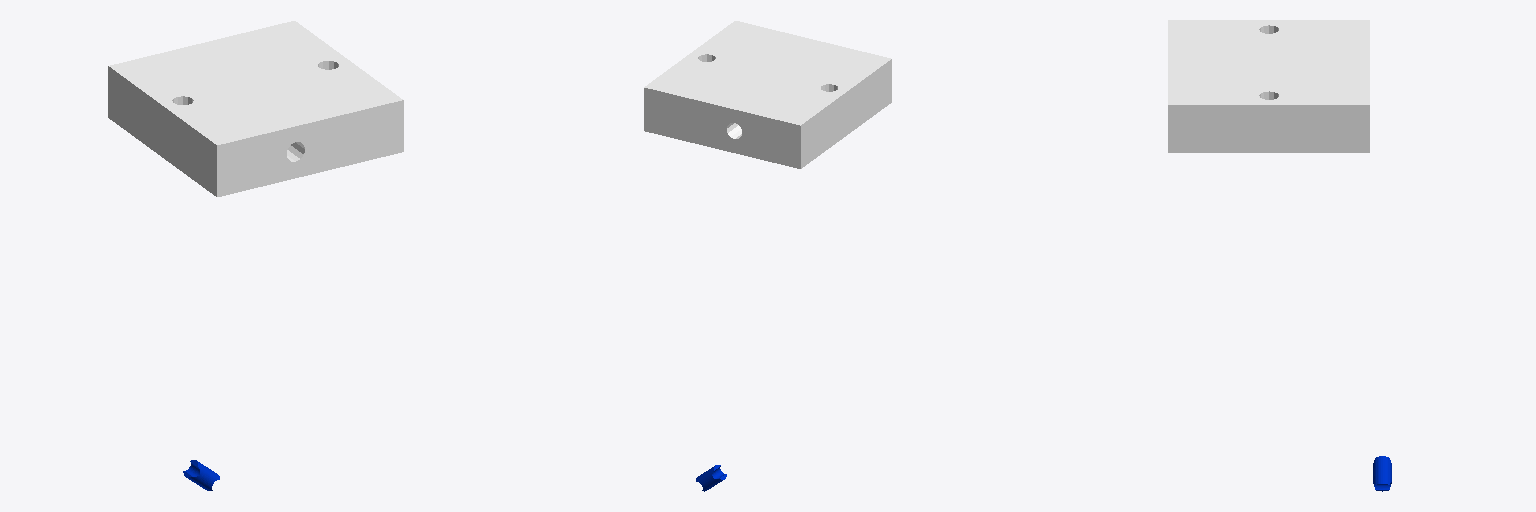
robot.urdf — Repaired:
<?xml version="1.0" encoding="utf-8"?>
<!-- This URDF was automatically created by SolidWorks to URDF Exporter! Originally created by [author] ([email redacted]) 
     Commit Version: 1.5.0-0-g9aa0fdb  Build Version: 1.5.7004.21443
     For more information, please see http://wiki.ros.org/sw_urdf_exporter -->
<robot
  name="Repaired">
  <link
    name="base_link">
    <inertial>
      <origin
        xyz="0.0012238380638291 -3.2559034824024E-17 0.0659595203814596"
        rpy="0 0 0" />
      <mass
        value="244.9329927506" />
      <inertia
        ixx="5.55262025860006"
        ixy="8.97973168069152E-16"
        ixz="-0.000394714970341266"
        iyy="5.44179501990665"
        iyz="-2.98544754675628E-16"
        izz="10.2631638380994" />
    </inertial>
    <visual>
      <origin
        xyz="0 0 0"
        rpy="0 0 0" />
      <geometry>
        <mesh
          filename="package://Repaired/meshes/base_link.STL" />
      </geometry>
      <material
        name="">
        <color
          rgba="1 1 1 1" />
      </material>
    </visual>
    <collision>
      <origin
        xyz="0 0 0"
        rpy="0 0 0" />
      <geometry>
        <mesh
          filename="package://Repaired/meshes/base_link.STL" />
      </geometry>
    </collision>
  </link>
  <link
    name="Femur_L">
    <inertial>
      <origin
        xyz="0.242203107830059 -0.00284577498225344 0.0924919582228952"
        rpy="0 0 0" />
      <mass
        value="1.0956267569314" />
      <inertia
        ixx="0.000770809917908147"
        ixy="0.000413272308722677"
        ixz="-0.00199415247363703"
        iyy="0.0359395923546767"
        iyz="2.34305677777083E-05"
        izz="0.0354701341892382" />
    </inertial>
    <visual>
      <origin
        xyz="0 0 0"
        rpy="0 0 0" />
      <geometry>
        <mesh
          filename="package://Repaired/meshes/Femur_L.STL" />
      </geometry>
      <material
        name="">
        <color
          rgba="0.00784313725490196 0.23921568627451 0.823529411764706 1" />
      </material>
    </visual>
    <collision>
      <origin
        xyz="0 0 0"
        rpy="0 0 0" />
      <geometry>
        <mesh
          filename="package://Repaired/meshes/Femur_L.STL" />
      </geometry>
    </collision>
  </link>
  <joint
    name="Hip_femur_L"
    type="continuous">
    <origin
      xyz="-0.0385868696304645 0.18 0.0672852031451373"
      rpy="-1.5707963267949 1.50458688118117 0" />
    <parent
      link="base_link" />
    <child
      link="Femur_L" />
    <axis
      xyz="0 0 1" />
    <safety_controller
      k_velocity="0" />
  </joint>
  <link
    name="Tibia_L">
    <inertial>
      <origin
        xyz="0.261668636750511 -0.00305413840682148 -0.0239999991276169"
        rpy="0 0 0" />
      <mass
        value="0.837833351696081" />
      <inertia
        ixx="0.000224729291285804"
        ixy="0.000203159080373753"
        ixz="8.62500209497016E-10"
        iyy="0.0175133040900648"
        iyz="1.47446822069347E-11"
        izz="0.0175171715862385" />
    </inertial>
    <visual>
      <origin
        xyz="0 0 0"
        rpy="0 0 0" />
      <geometry>
        <mesh
          filename="package://Repaired/meshes/Tibia_L.STL" />
      </geometry>
      <material
        name="">
        <color
          rgba="0.00784313725490196 0.23921568627451 0.823529411764706 1" />
      </material>
    </visual>
    <collision>
      <origin
        xyz="0 0 0"
        rpy="0 0 0" />
      <geometry>
        <mesh
          filename="package://Repaired/meshes/Tibia_L.STL" />
      </geometry>
    </collision>
  </link>
  <joint
    name="Femur_tibia_L"
    type="continuous">
    <origin
      xyz="0.557961346760059 -0.00655865516646524 0.0770000001743603"
      rpy="0 0 -0.00193315362723463" />
    <parent
      link="Femur_L" />
    <child
      link="Tibia_L" />
    <axis
      xyz="0 0 -1" />
    <safety_controller
      k_velocity="0" />
  </joint>
  <link
    name="Tarsa_L">
    <inertial>
      <origin
        xyz="-0.0158380799307015 0.0270568662099289 0.070000040207787"
        rpy="0 0 0" />
      <mass
        value="0.1015318884241" />
      <inertia
        ixx="3.76272208014452E-05"
        ixy="9.18977913987558E-06"
        ixz="-9.13107287739054E-12"
        iyy="3.74041899759607E-05"
        iyz="4.8241525289842E-13"
        izz="4.96436344707768E-05" />
    </inertial>
    <visual>
      <origin
        xyz="0 0 0"
        rpy="0 0 0" />
      <geometry>
        <mesh
          filename="package://Repaired/meshes/Tarsa_L.STL" />
      </geometry>
      <material
        name="">
        <color
          rgba="0.00784313725490196 0.23921568627451 0.823529411764706 1" />
      </material>
    </visual>
    <collision>
      <origin
        xyz="0 0 0"
        rpy="0 0 0" />
      <geometry>
        <mesh
          filename="package://Repaired/meshes/Tarsa_L.STL" />
      </geometry>
    </collision>
  </link>
  <joint
    name="Tibia_tarsa_L"
    type="continuous">
    <origin
      xyz="0.507031720085334 -0.00595264631811062 -0.0469999948873179"
      rpy="0 0 -0.011749059834896" />
    <parent
      link="Tibia_L" />
    <child
      link="Tarsa_L" />
    <axis
      xyz="0 0 -1" />
    <safety_controller
      k_velocity="0" />
  </joint>
  <link
    name="Foot_L">
    <inertial>
      <origin
        xyz="-0.134046955227231 -0.0400232687764869 -0.149551845220791"
        rpy="0 0 0" />
      <mass
        value="0.834771497095713" />
      <inertia
        ixx="0.00329402342120859"
        ixy="-0.00225499866549155"
        ixz="4.00642092186644E-10"
        iyy="0.0132217193918293"
        iyz="2.8935200772549E-10"
        izz="0.0109505994990665" />
    </inertial>
    <visual>
      <origin
        xyz="0 0 0"
        rpy="0 0 0" />
      <geometry>
        <mesh
          filename="package://Repaired/meshes/Foot_L.STL" />
      </geometry>
      <material
        name="">
        <color
          rgba="0.00784313725490196 0.23921568627451 0.823529411764706 1" />
      </material>
    </visual>
    <collision>
      <origin
        xyz="0 0 0"
        rpy="0 0 0" />
      <geometry>
        <mesh
          filename="package://Repaired/meshes/Foot_L.STL" />
      </geometry>
    </collision>
  </link>
  <joint
    name="Tarsa_foot_L"
    type="continuous">
    <origin
      xyz="-0.0329011655010585 0.0443579715782456 0.0929999850227678"
      rpy="0 0 2.34919273330007" />
    <parent
      link="Tarsa_L" />
    <child
      link="Foot_L" />
    <axis
      xyz="0 0 0.999999999999996" />
    <safety_controller
      k_velocity="0" />
  </joint>
  <link
    name="Femur_R">
    <inertial>
      <origin
        xyz="0.242203107594868 -0.00284577821776226 -0.0924919582317857"
        rpy="0 0 0" />
      <mass
        value="1.09562675424786" />
      <inertia
        ixx="0.000770809907869584"
        ixy="0.000413271827180529"
        ixz="0.00199415248143469"
        iyy="0.0359395923291157"
        iyz="-2.34302735430893E-05"
        izz="0.0354701341468066" />
    </inertial>
    <visual>
      <origin
        xyz="0 0 0"
        rpy="0 0 0" />
      <geometry>
        <mesh
          filename="package://Repaired/meshes/Femur_R.STL" />
      </geometry>
      <material
        name="">
        <color
          rgba="0.00784313725490196 0.23921568627451 0.823529411764706 1" />
      </material>
    </visual>
    <collision>
      <origin
        xyz="0 0 0"
        rpy="0 0 0" />
      <geometry>
        <mesh
          filename="package://Repaired/meshes/Femur_R.STL" />
      </geometry>
    </collision>
  </link>
  <joint
    name="Hips_femur_R"
    type="continuous">
    <origin
      xyz="-0.0385868696304645 -0.18 0.0672852031451373"
      rpy="-1.5707963267949 1.50458688118117 0" />
    <parent
      link="base_link" />
    <child
      link="Femur_R" />
    <axis
      xyz="0 0 1" />
    <safety_controller
      k_velocity="0" />
  </joint>
  <link
    name="Tibia_R">
    <inertial>
      <origin
        xyz="0.261668641621138 -0.00305415187488046 0.0239999993678786"
        rpy="0 0 0" />
      <mass
        value="0.837833381982962" />
      <inertia
        ixx="0.000224729299568724"
        ixy="0.000203161324382621"
        ixz="-9.62315070102519E-10"
        iyy="0.0175133046826421"
        iyz="6.79629889799751E-11"
        izz="0.0175171721226335" />
    </inertial>
    <visual>
      <origin
        xyz="0 0 0"
        rpy="0 0 0" />
      <geometry>
        <mesh
          filename="package://Repaired/meshes/Tibia_R.STL" />
      </geometry>
      <material
        name="">
        <color
          rgba="0.00784313725490196 0.23921568627451 0.823529411764706 1" />
      </material>
    </visual>
    <collision>
      <origin
        xyz="0 0 0"
        rpy="0 0 0" />
      <geometry>
        <mesh
          filename="package://Repaired/meshes/Tibia_R.STL" />
      </geometry>
    </collision>
  </link>
  <joint
    name="Femur_tibia_R"
    type="continuous">
    <origin
      xyz="0.557961346760059 -0.00655865516646524 -0.0770000001743603"
      rpy="0 0 -0.00193315362723463" />
    <parent
      link="Femur_R" />
    <child
      link="Tibia_R" />
    <axis
      xyz="0 0 1" />
    <safety_controller
      k_velocity="0" />
  </joint>
  <link
    name="Tarsa_R">
    <inertial>
      <origin
        xyz="-0.0158380799307016 -0.0270568662099289 0.0700000402077869"
        rpy="0 0 0" />
      <mass
        value="0.1015318884241" />
      <inertia
        ixx="3.76272208014451E-05"
        ixy="-9.18977913987555E-06"
        ixz="-9.1310729245663E-12"
        iyy="3.74041899759607E-05"
        iyz="-4.82415262430251E-13"
        izz="4.96436344707767E-05" />
    </inertial>
    <visual>
      <origin
        xyz="0 0 0"
        rpy="0 0 0" />
      <geometry>
        <mesh
          filename="package://Repaired/meshes/Tarsa_R.STL" />
      </geometry>
      <material
        name="">
        <color
          rgba="0.00784313725490196 0.23921568627451 0.823529411764706 1" />
      </material>
    </visual>
    <collision>
      <origin
        xyz="0 0 0"
        rpy="0 0 0" />
      <geometry>
        <mesh
          filename="package://Repaired/meshes/Tarsa_R.STL" />
      </geometry>
    </collision>
  </link>
  <joint
    name="Tibia_tarsa_R"
    type="continuous">
    <origin
      xyz="0.507031720085334 -0.00595264631811062 0.0469999948873179"
      rpy="3.14159265358979 0 -0.011749059834896" />
    <parent
      link="Tibia_R" />
    <child
      link="Tarsa_R" />
    <axis
      xyz="0 0 -1" />
    <safety_controller
      k_velocity="0" />
  </joint>
  <link
    name="Foot_R">
    <inertial>
      <origin
        xyz="-0.134046955227231 -0.0400232687764868 0.149551845220791"
        rpy="0 0 0" />
      <mass
        value="0.834771497095712" />
      <inertia
        ixx="0.00329402342120859"
        ixy="-0.00225499866549155"
        ixz="-4.00642091875342E-10"
        iyy="0.0132217193918293"
        iyz="-2.89352008311441E-10"
        izz="0.0109505994990664" />
    </inertial>
    <visual>
      <origin
        xyz="0 0 0"
        rpy="0 0 0" />
      <geometry>
        <mesh
          filename="package://Repaired/meshes/Foot_R.STL" />
      </geometry>
      <material
        name="">
        <color
          rgba="0.00784313725490196 0.23921568627451 0.823529411764706 1" />
      </material>
    </visual>
    <collision>
      <origin
        xyz="0 0 0"
        rpy="0 0 0" />
      <geometry>
        <mesh
          filename="package://Repaired/meshes/Foot_R.STL" />
      </geometry>
    </collision>
  </link>
  <joint
    name="Tarsa_foot_R"
    type="continuous">
    <origin
      xyz="-0.0329011655010585 -0.0443579715782456 0.0929999850227679"
      rpy="-3.14159259521135 0 -2.34919273330007" />
    <parent
      link="Tarsa_R" />
    <child
      link="Foot_R" />
    <axis
      xyz="0 0 -0.999999999999996" />
    <safety_controller
      k_velocity="0" />
  </joint>
</robot>

--- What the picture shows (computed from the rendered views, not written in the file) ---
The picture shows the robot from 3 angles, left to right: view 1: azimuth 30°, elevation 25°; view 2: azimuth 150°, elevation 25°; view 3: azimuth 270°, elevation 25°; orthographic projection.
Robot: Repaired — 9 links, 8 joints (8 continuous); root link base_link; default pose: all joints at 0.
Visible links, largest first — view 1: base_link, Tarsa_L; view 2: base_link; view 3: base_link, Tarsa_L.
Link boxes in pixels (x1,y1,x2,y2): base_link: (108,21,403,196); Tarsa_L: (183,460,219,490); base_link: (644,21,891,168); base_link: (1168,20,1369,152); Tarsa_L: (1373,456,1391,491).
Size in the robot's own frame: 0.495 by 0.553 by 1.15 metres.
Meshes: 9 distinct files referenced, 2 mesh visuals loaded (2 binary STL); not drawn: 7 (reference not matched to a file when rendering).